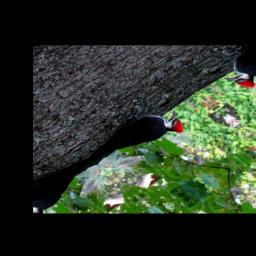Woodpecker: (74, 93, 195, 177)
